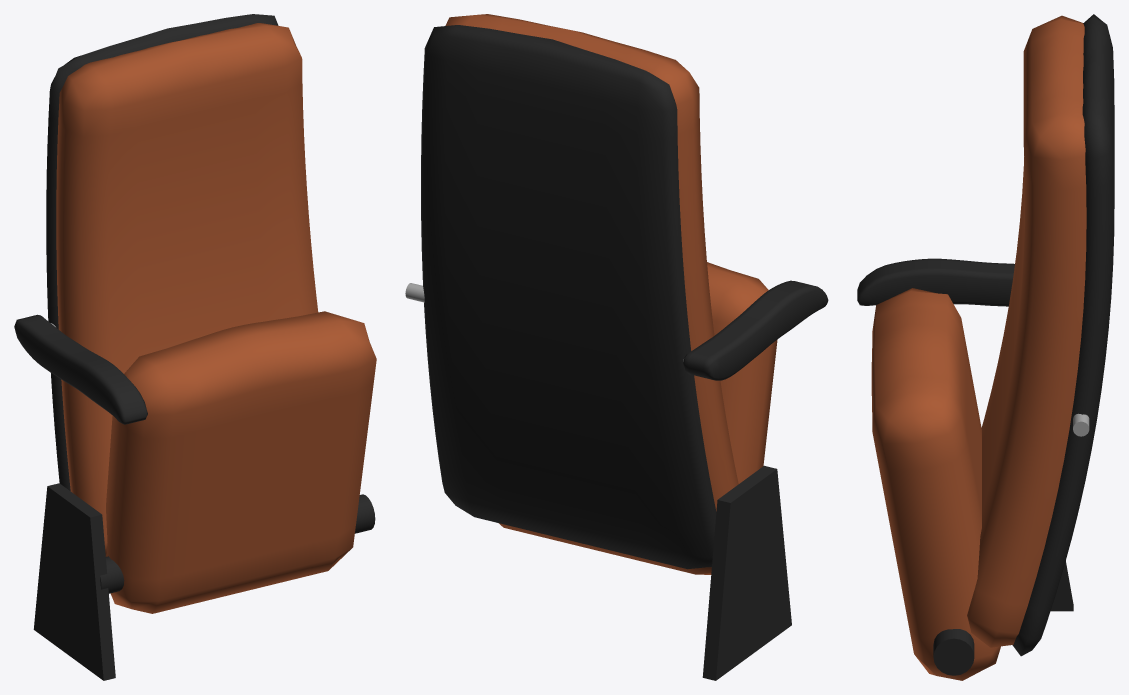
The model's file is sillasIzq.fbx.
3 renders of one model, left to right at view 1: azimuth 30°, elevation 25°; view 2: azimuth 150°, elevation 25°; view 3: azimuth 270°, elevation 25°, orthographic. The views are drawn at different scales.
Parts seen in each view (by area): view 1: polySurface48, polySurface38, polySurface6, polySurface22, polySurface44, polySurface18; view 2: polySurface22, polySurface48, polySurface6, polySurface38, polySurface44; view 3: polySurface48, polySurface38, polySurface22, polySurface44, polySurface18, polySurface6.
Part boxes in pixels (<box>): polySurface48: <box>56,23,318,556</box>; polySurface38: <box>106,311,376,613</box>; polySurface6: <box>33,483,115,680</box>; polySurface22: <box>46,14,278,490</box>; polySurface44: <box>14,314,147,424</box>; polySurface18: <box>100,494,375,593</box>; polySurface22: <box>421,25,716,569</box>; polySurface48: <box>445,14,738,511</box>; polySurface6: <box>702,465,791,680</box>; polySurface38: <box>499,262,777,574</box>; polySurface44: <box>683,280,828,380</box>; polySurface48: <box>967,15,1086,647</box>; polySurface38: <box>871,288,1000,680</box>; polySurface22: <box>1012,14,1114,656</box>; polySurface44: <box>857,258,1014,306</box>; polySurface18: <box>933,629,974,675</box>; polySurface6: <box>1050,561,1073,611</box>.
Bounding box in the file's own units: 2.75 × 5.13 × 1.91.
